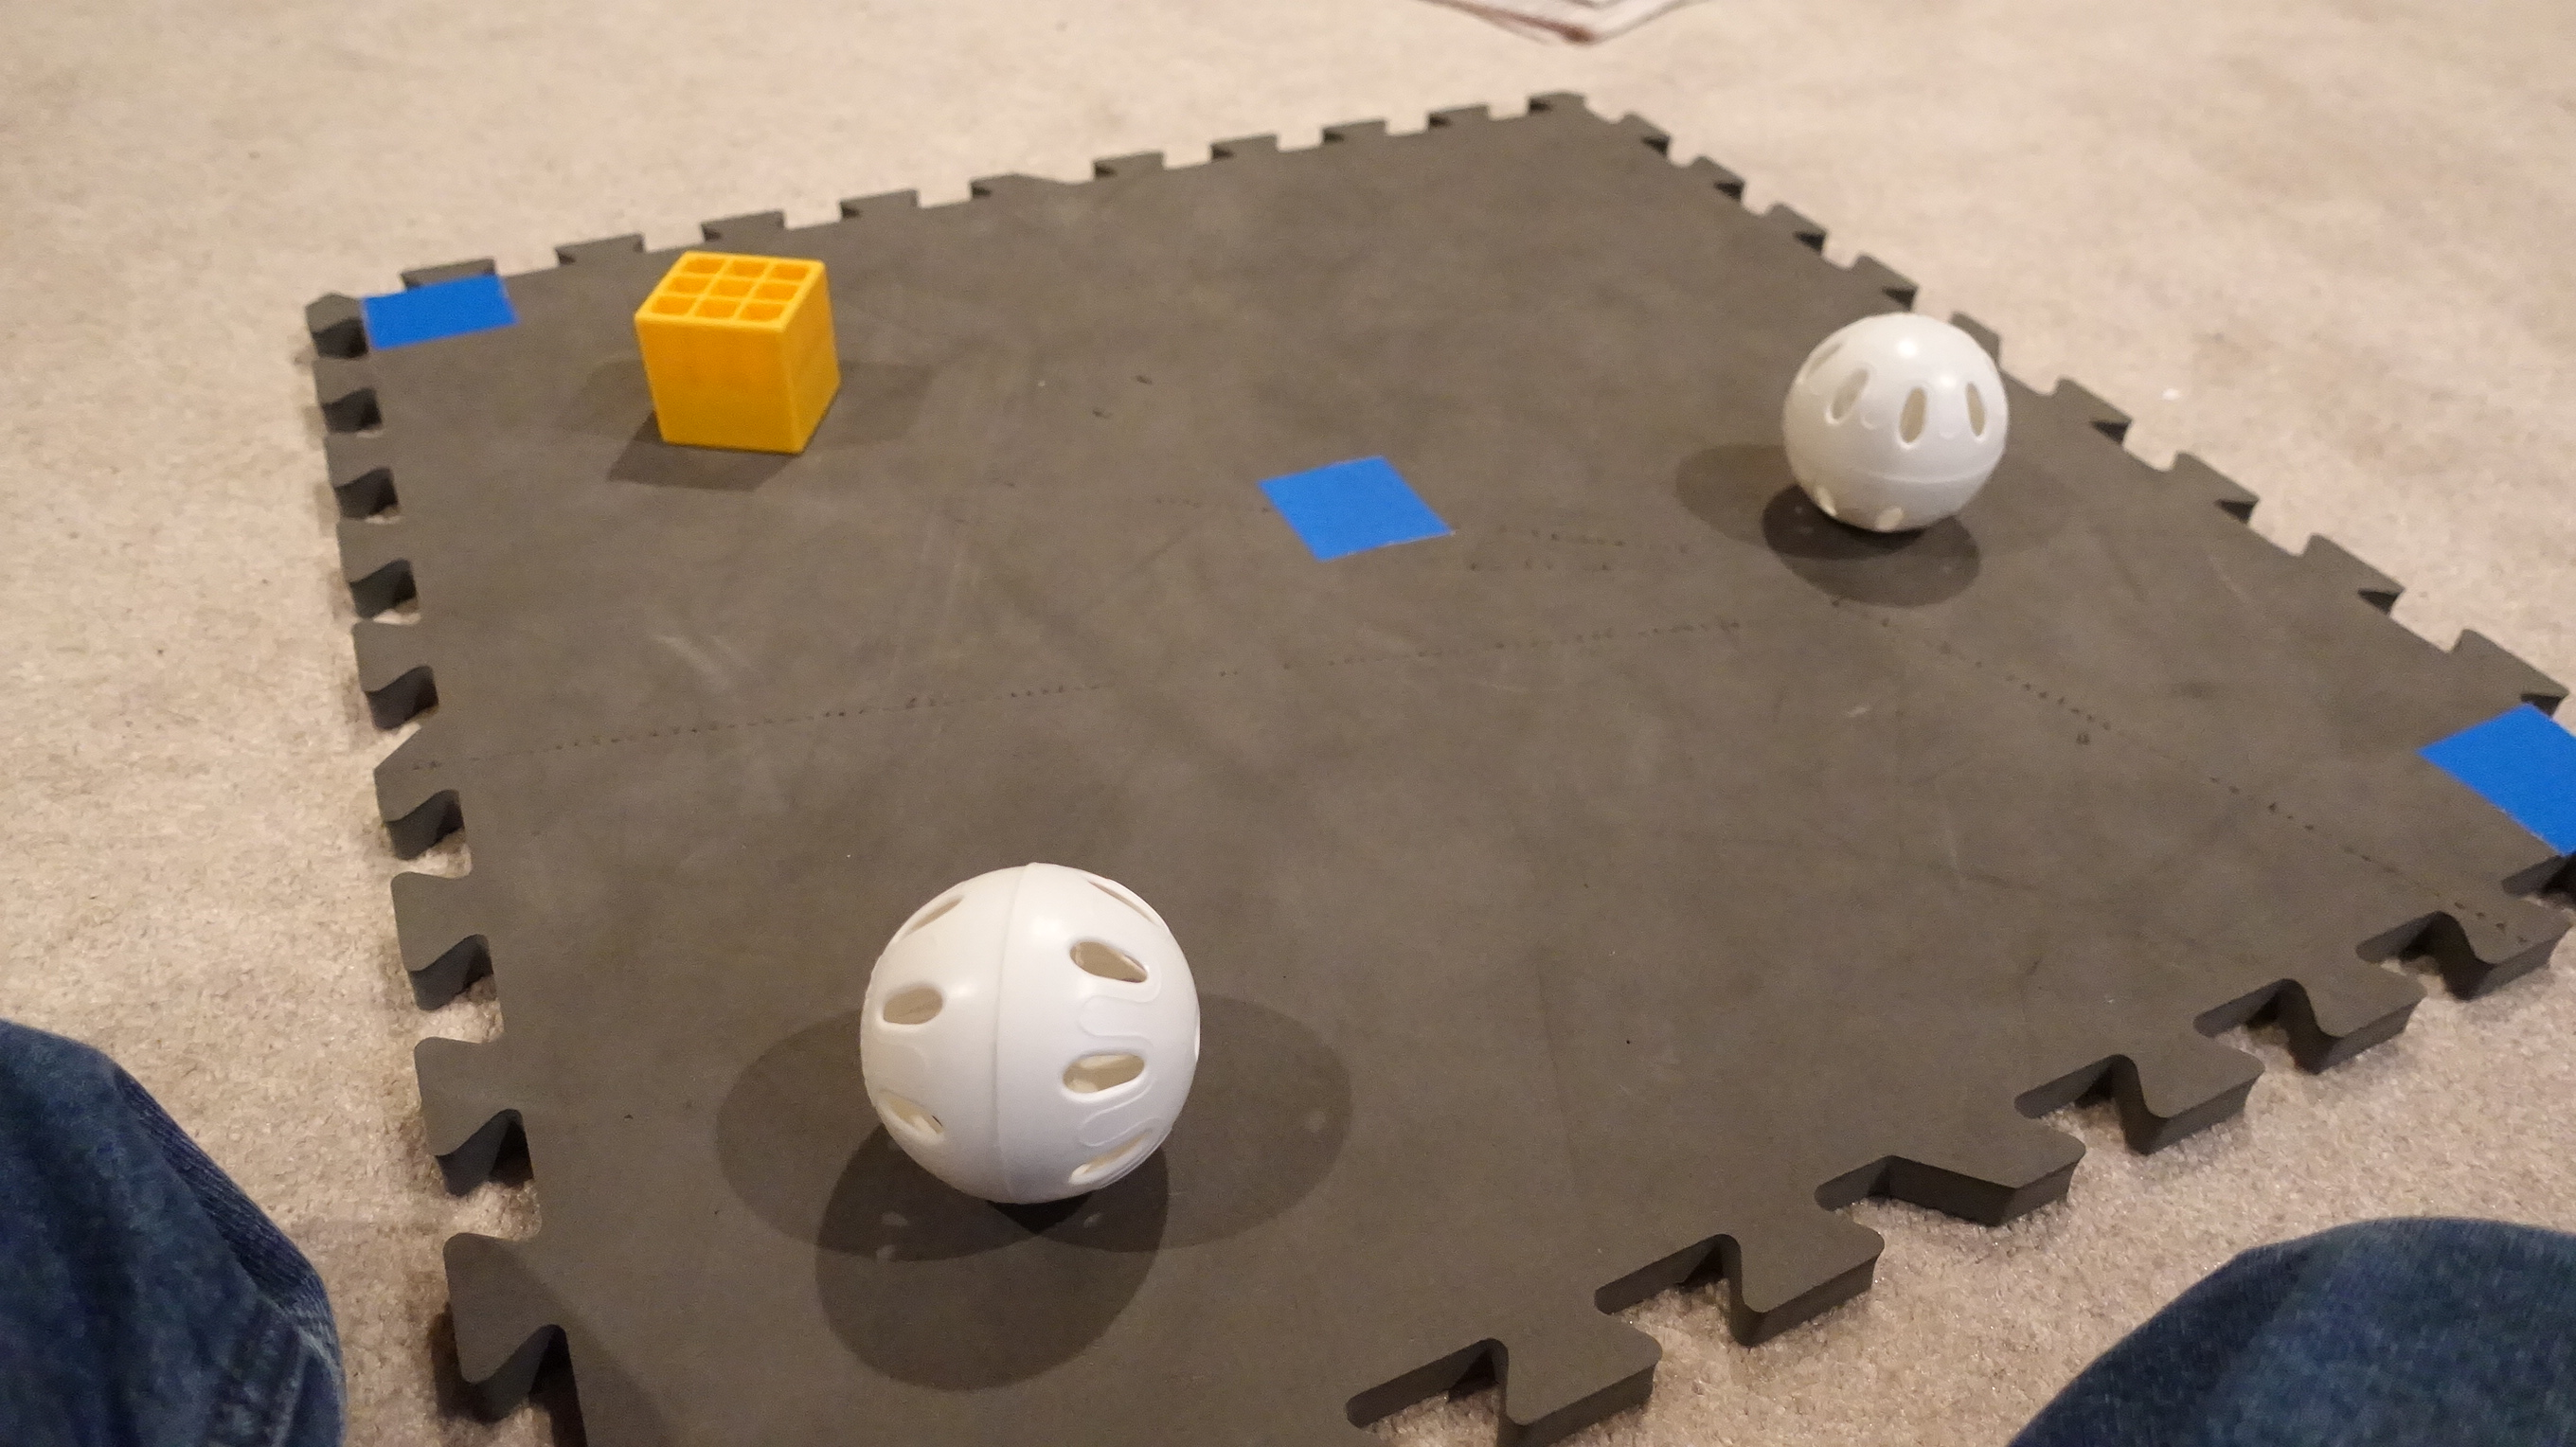gold: (628, 244, 863, 469)
silver: (851, 853, 1201, 1212), (1773, 299, 2015, 541)
